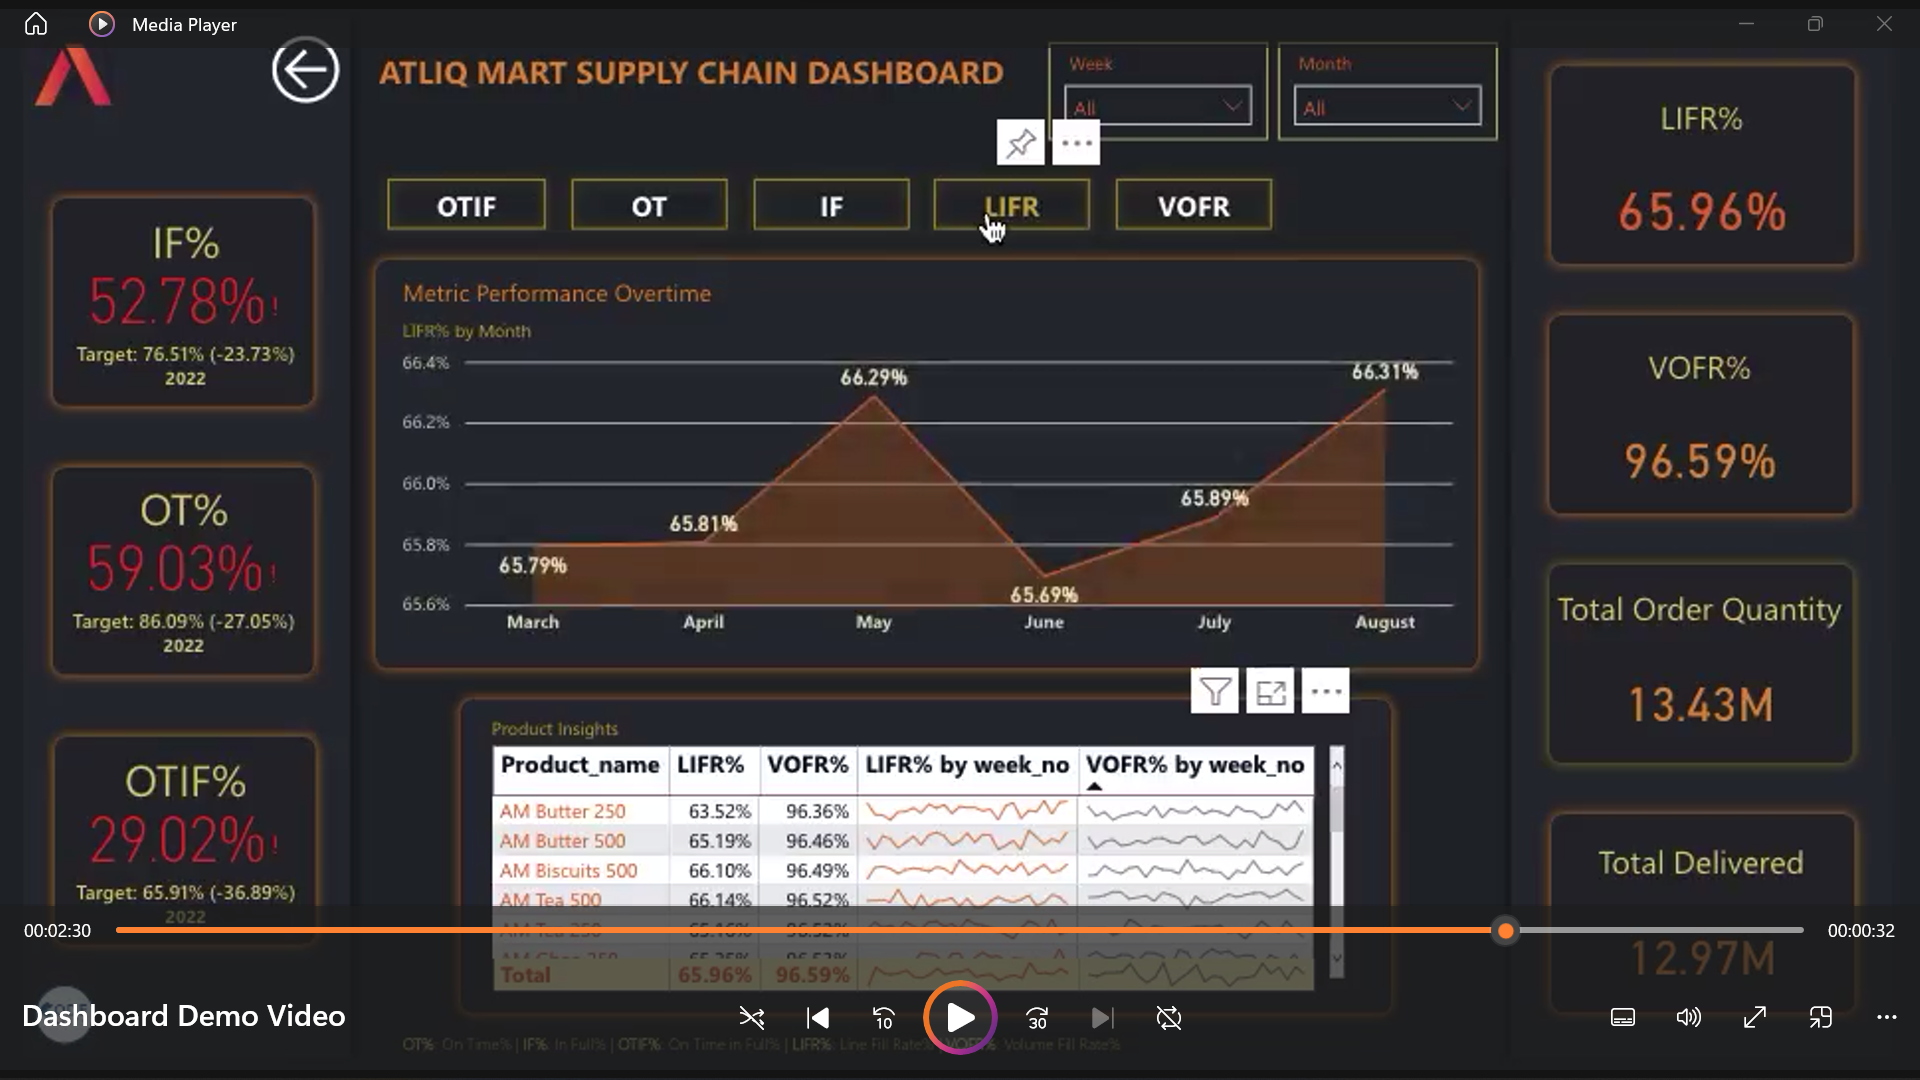

Layout of this report page (visuals, bound fields, positions):
{"tool":"powerbi","page":{"name":"Performance Overtime","canvas":[1280,720],"ordinal":2},"visuals":[{"type":"shape","box":[1004.6,0,275,720],"z":0},{"type":"shape","box":[0,0,238.8,720],"z":1000},{"type":"shape","box":[1032.4,537.7,220.7,149.5],"z":2000},{"type":"shape","box":[1031.2,369.6,220.7,149.5],"z":3000},{"type":"shape","box":[1031.2,201.6,220.7,149.5],"z":4000},{"type":"shape","box":[1032.4,33.6,220.7,149.5],"z":5000},{"type":"shape","box":[22.9,486,191.8,155.6],"z":6000},{"type":"shape","box":[21.8,304.3,191.8,156],"z":7000},{"type":"shape","box":[21.7,123,191.8,155.6],"z":8000},{"type":"shape","box":[296.7,460.7,644,227.9],"z":9000},{"type":"textbox","box":[244.8,25.3,505.3,56.7],"z":10000},{"type":"card","title":"LIFR%","fields":{"Values":["fact_order_lines.LIFR%"]},"box":[1043.2,61.5,197.8,121.8],"z":11000},{"type":"card","title":"VOFR%","fields":{"Values":["fact_order_lines.VOFR%"]},"box":[1042,229.1,197.8,121.8],"z":12000},{"type":"card","title":"Total Order Quantity","fields":{"Values":["fact_order_lines.Total Qty Ordered"]},"box":[1039.6,393.2,202.6,125.4],"z":13000},{"type":"card","title":"Total Delivered","fields":{"Values":["fact_order_lines.Total Qty Shipped"]},"box":[1040.8,563.2,202.6,125.4],"z":14000},{"type":"kpi","title":"IF%","fields":{"Indicator":["fact_orders_aggregate.IF%"],"Goal":["Avg(dim_targets_orders.IF Target)"],"TrendLine":["dim_date.date.Variation.Date Hierarchy.Year"]},"box":[27.7,138.7,182.1,125.4],"z":15000},{"type":"kpi","title":"OT%","fields":{"Goal":["Avg(dim_targets_orders.OT Target)"],"TrendLine":["dim_date.date.Variation.Date Hierarchy.Year"],"Indicator":["fact_orders_aggregate.OT%"]},"box":[26.5,319.6,182.1,125.4],"z":16000},{"type":"kpi","title":"OTIF%","fields":{"Goal":["Avg(dim_targets_orders.OTIF Target)"],"TrendLine":["dim_date.date.Variation.Date Hierarchy.Year"],"Indicator":["fact_orders_aggregate.OTIF%"]},"box":[27.7,501.7,182.1,125.4],"z":17000},{"type":"textbox","box":[260.5,685,645.2,35],"z":18000},{"type":"slicer","fields":{"Values":["dim_date.date.Variation.Date Hierarchy.Month"]},"box":[856.3,25.4,148.3,66.3],"z":19000},{"type":"slicer","fields":{"Values":["dim_date.week_no"]},"box":[701.9,25.3,148.3,66.3],"z":20000},{"type":"image","box":[10.9,9.6,66.3,63.9],"z":21000},{"type":"image","box":[9.6,654.9,55.5,54.3],"z":22000},{"type":"shape","box":[238.8,164,759.8,291.9],"z":23000},{"type":"tableEx","title":"Product Insights","fields":{"Values":["dim_products.product_name","fact_order_lines.LIFR%","fact_order_lines.VOFR%","SparklineData(fact_order_lines.LIFR%_[dim_date.week_no])","SparklineData(fact_order_lines.VOFR%_[dim_date.week_no])"]},"box":[320.8,480,584.9,190.6],"z":24000},{"type":"areaChart","fields":{"Category":["dim_date.date.Variation.Date Hierarchy.Month"],"Y":["fact_orders_aggregate.OTIF%"]},"box":[260,210.4,715.5,224.1],"z":25000},{"type":"textbox","box":[260,179.1,505.6,57.8],"z":30000},{"type":"actionButton","box":[247.7,109.8,122.8,50],"z":31000},{"type":"actionButton","box":[371.5,109.3,121.4,50.3],"z":32000},{"type":"actionButton","box":[494,109.3,121.4,50.3],"z":33000},{"type":"actionButton","box":[616.4,109.3,121.4,50.3],"z":34000},{"type":"actionButton","box":[738.9,109.3,121.4,50.3],"z":35000},{"type":"actionButton","box":[170.8,14.9,59.4,58.2],"z":36000}]}

Visuals, with their boxes on the page's 1280x720 design canvas (x1, y1, x2, y2). These are canvas units, not pixel positions in the 1920x1080 screenshot, which may show the page scaled, cropped or inside an application window:
shape: box(1005, 0, 1280, 720)
shape: box(0, 0, 239, 720)
shape: box(1032, 538, 1253, 687)
shape: box(1031, 370, 1252, 519)
shape: box(1031, 202, 1252, 351)
shape: box(1032, 34, 1253, 183)
shape: box(23, 486, 215, 642)
shape: box(22, 304, 214, 460)
shape: box(22, 123, 214, 279)
shape: box(297, 461, 941, 689)
textbox: box(245, 25, 750, 82)
"LIFR%" card: box(1043, 62, 1241, 183)
"VOFR%" card: box(1042, 229, 1240, 351)
"Total Order Quantity" card: box(1040, 393, 1242, 519)
"Total Delivered" card: box(1041, 563, 1243, 689)
"IF%" kpi: box(28, 139, 210, 264)
"OT%" kpi: box(26, 320, 209, 445)
"OTIF%" kpi: box(28, 502, 210, 627)
textbox: box(260, 685, 906, 720)
slicer - dim_date.date.Variation.Date Hierarchy.Month: box(856, 25, 1005, 92)
slicer - dim_date.week_no: box(702, 25, 850, 92)
image: box(11, 10, 77, 74)
image: box(10, 655, 65, 709)
shape: box(239, 164, 999, 456)
"Product Insights" tableEx: box(321, 480, 906, 671)
areaChart - dim_date.date.Variation.Date Hierarchy.Month x fact_orders_aggregate.OTIF%: box(260, 210, 976, 434)
textbox: box(260, 179, 766, 237)
actionButton: box(248, 110, 370, 160)
actionButton: box(372, 109, 493, 160)
actionButton: box(494, 109, 615, 160)
actionButton: box(616, 109, 738, 160)
actionButton: box(739, 109, 860, 160)
actionButton: box(171, 15, 230, 73)
